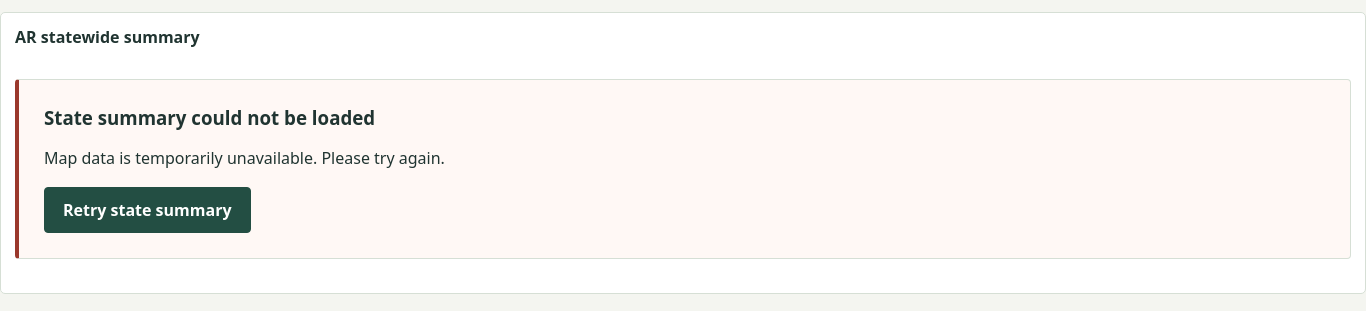
published statewide overview › retries a failed summary without replacing the county map
Check: the message shows "State summary could not be loaded", box [44,105,375,130]
Click the button "Retry state summary": (147, 210) [44,187,250,234]
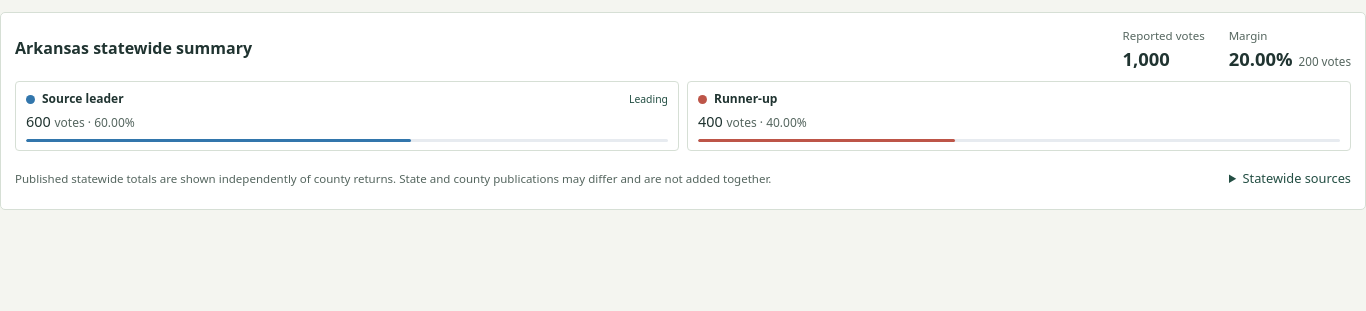
Check: the heading "Arkansas statewide summary" is shown, box [15,37,252,59]
